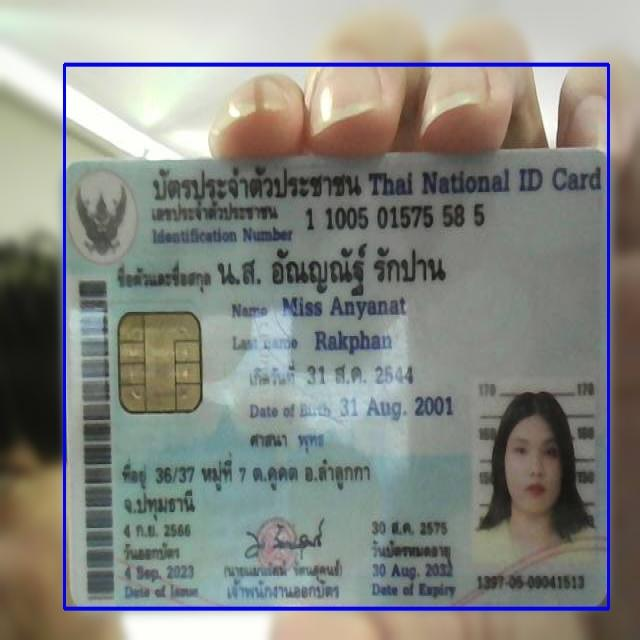Address_th: (115, 450, 382, 520)
Date_of_Birth: (339, 390, 456, 425)
Date_of_Expiry: (369, 560, 459, 584)
Date_of_Issue: (122, 559, 198, 583)
First_Name: (280, 292, 410, 324)
ID_Number: (302, 200, 493, 235)
Image: (475, 380, 594, 568)
Last_Name: (312, 324, 394, 358)
Thai_Name: (214, 240, 451, 296)
